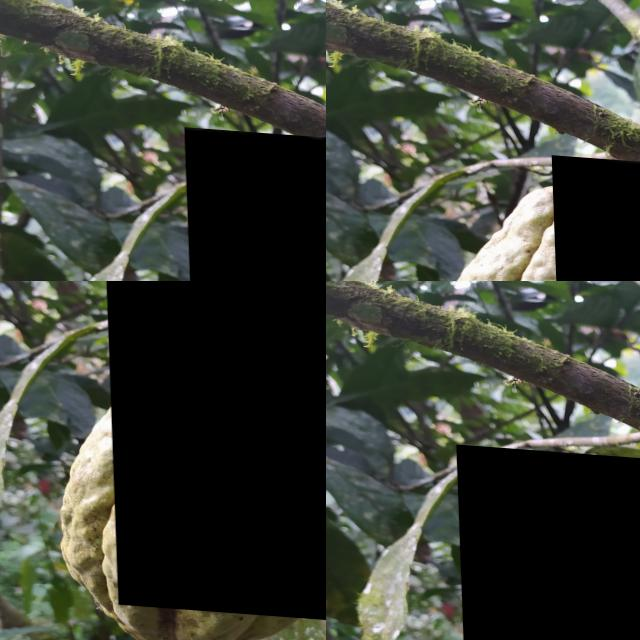Fitoftora: (463, 173, 558, 281)
Monilia: (103, 281, 326, 615)
Sana: (326, 9, 483, 281), (454, 441, 640, 640), (183, 124, 326, 281), (549, 150, 640, 281)
